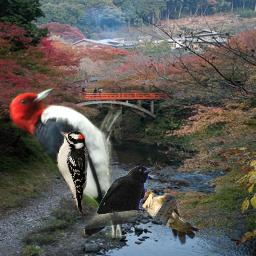Crow: (84, 166, 155, 236)
Swallow: (134, 187, 200, 245)
Woodpecker: (9, 86, 122, 238), (55, 131, 88, 214)
